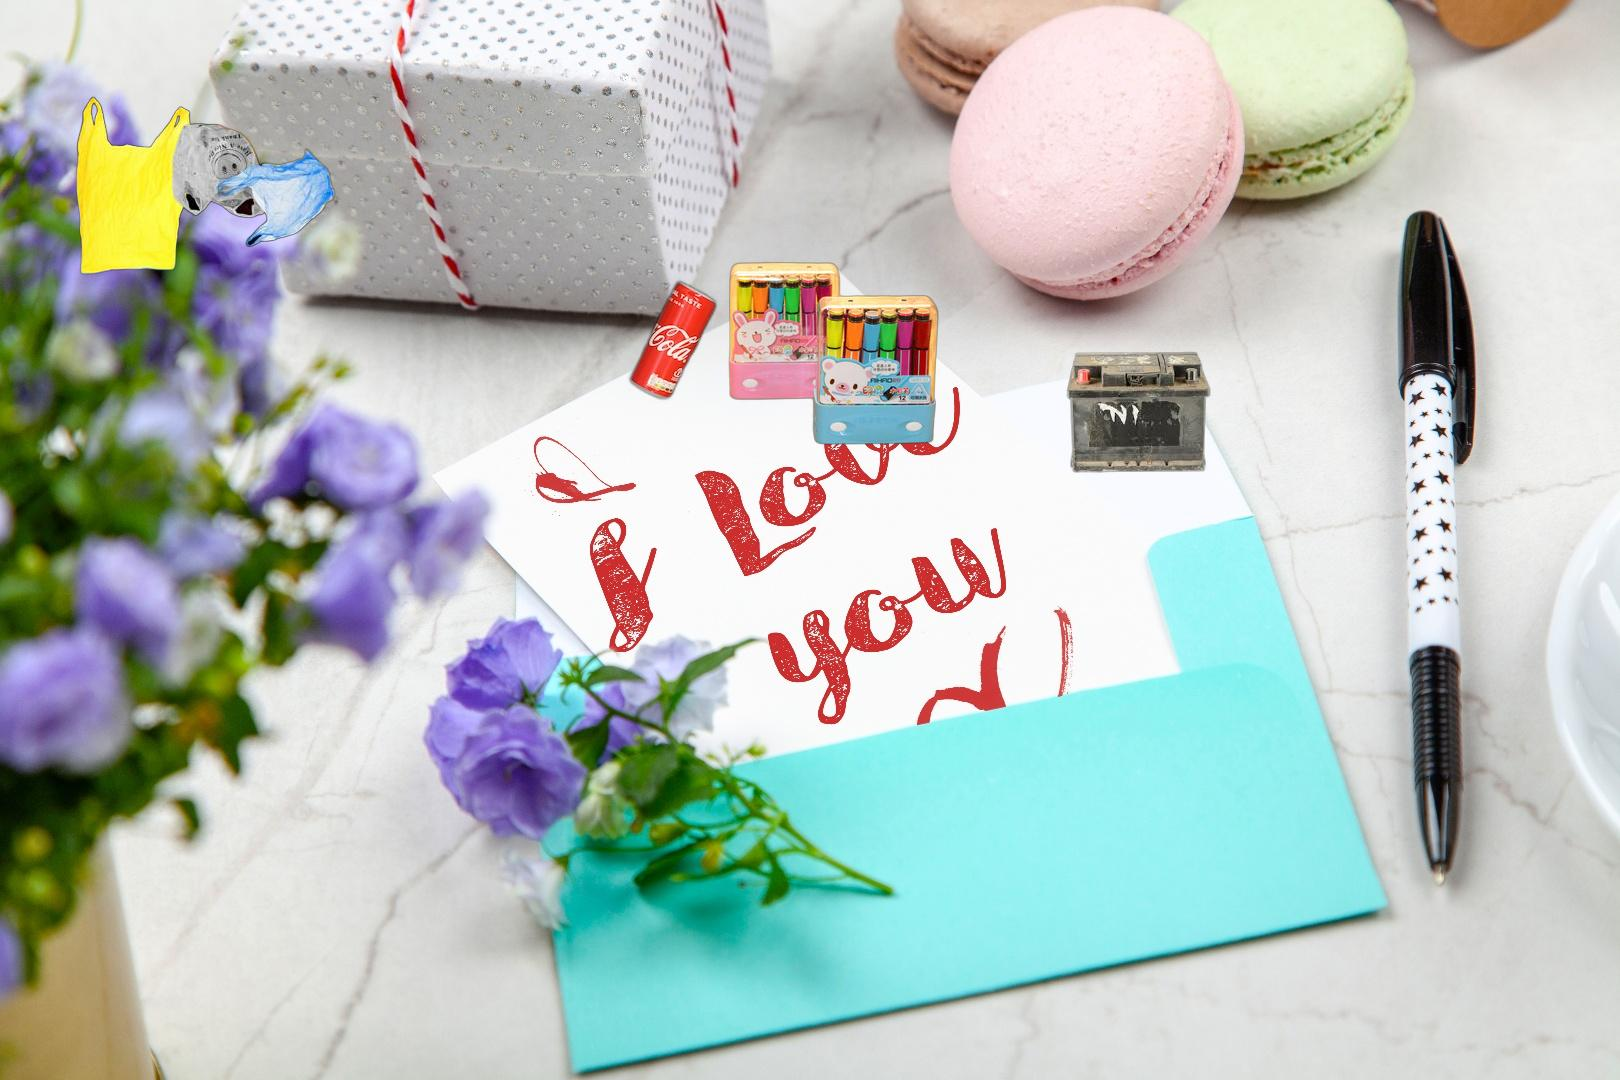battery: (1064, 350, 1213, 475)
metal-cans: (626, 275, 720, 404)
penholder: (726, 259, 941, 447)
plastic-bag: (74, 94, 337, 277)
